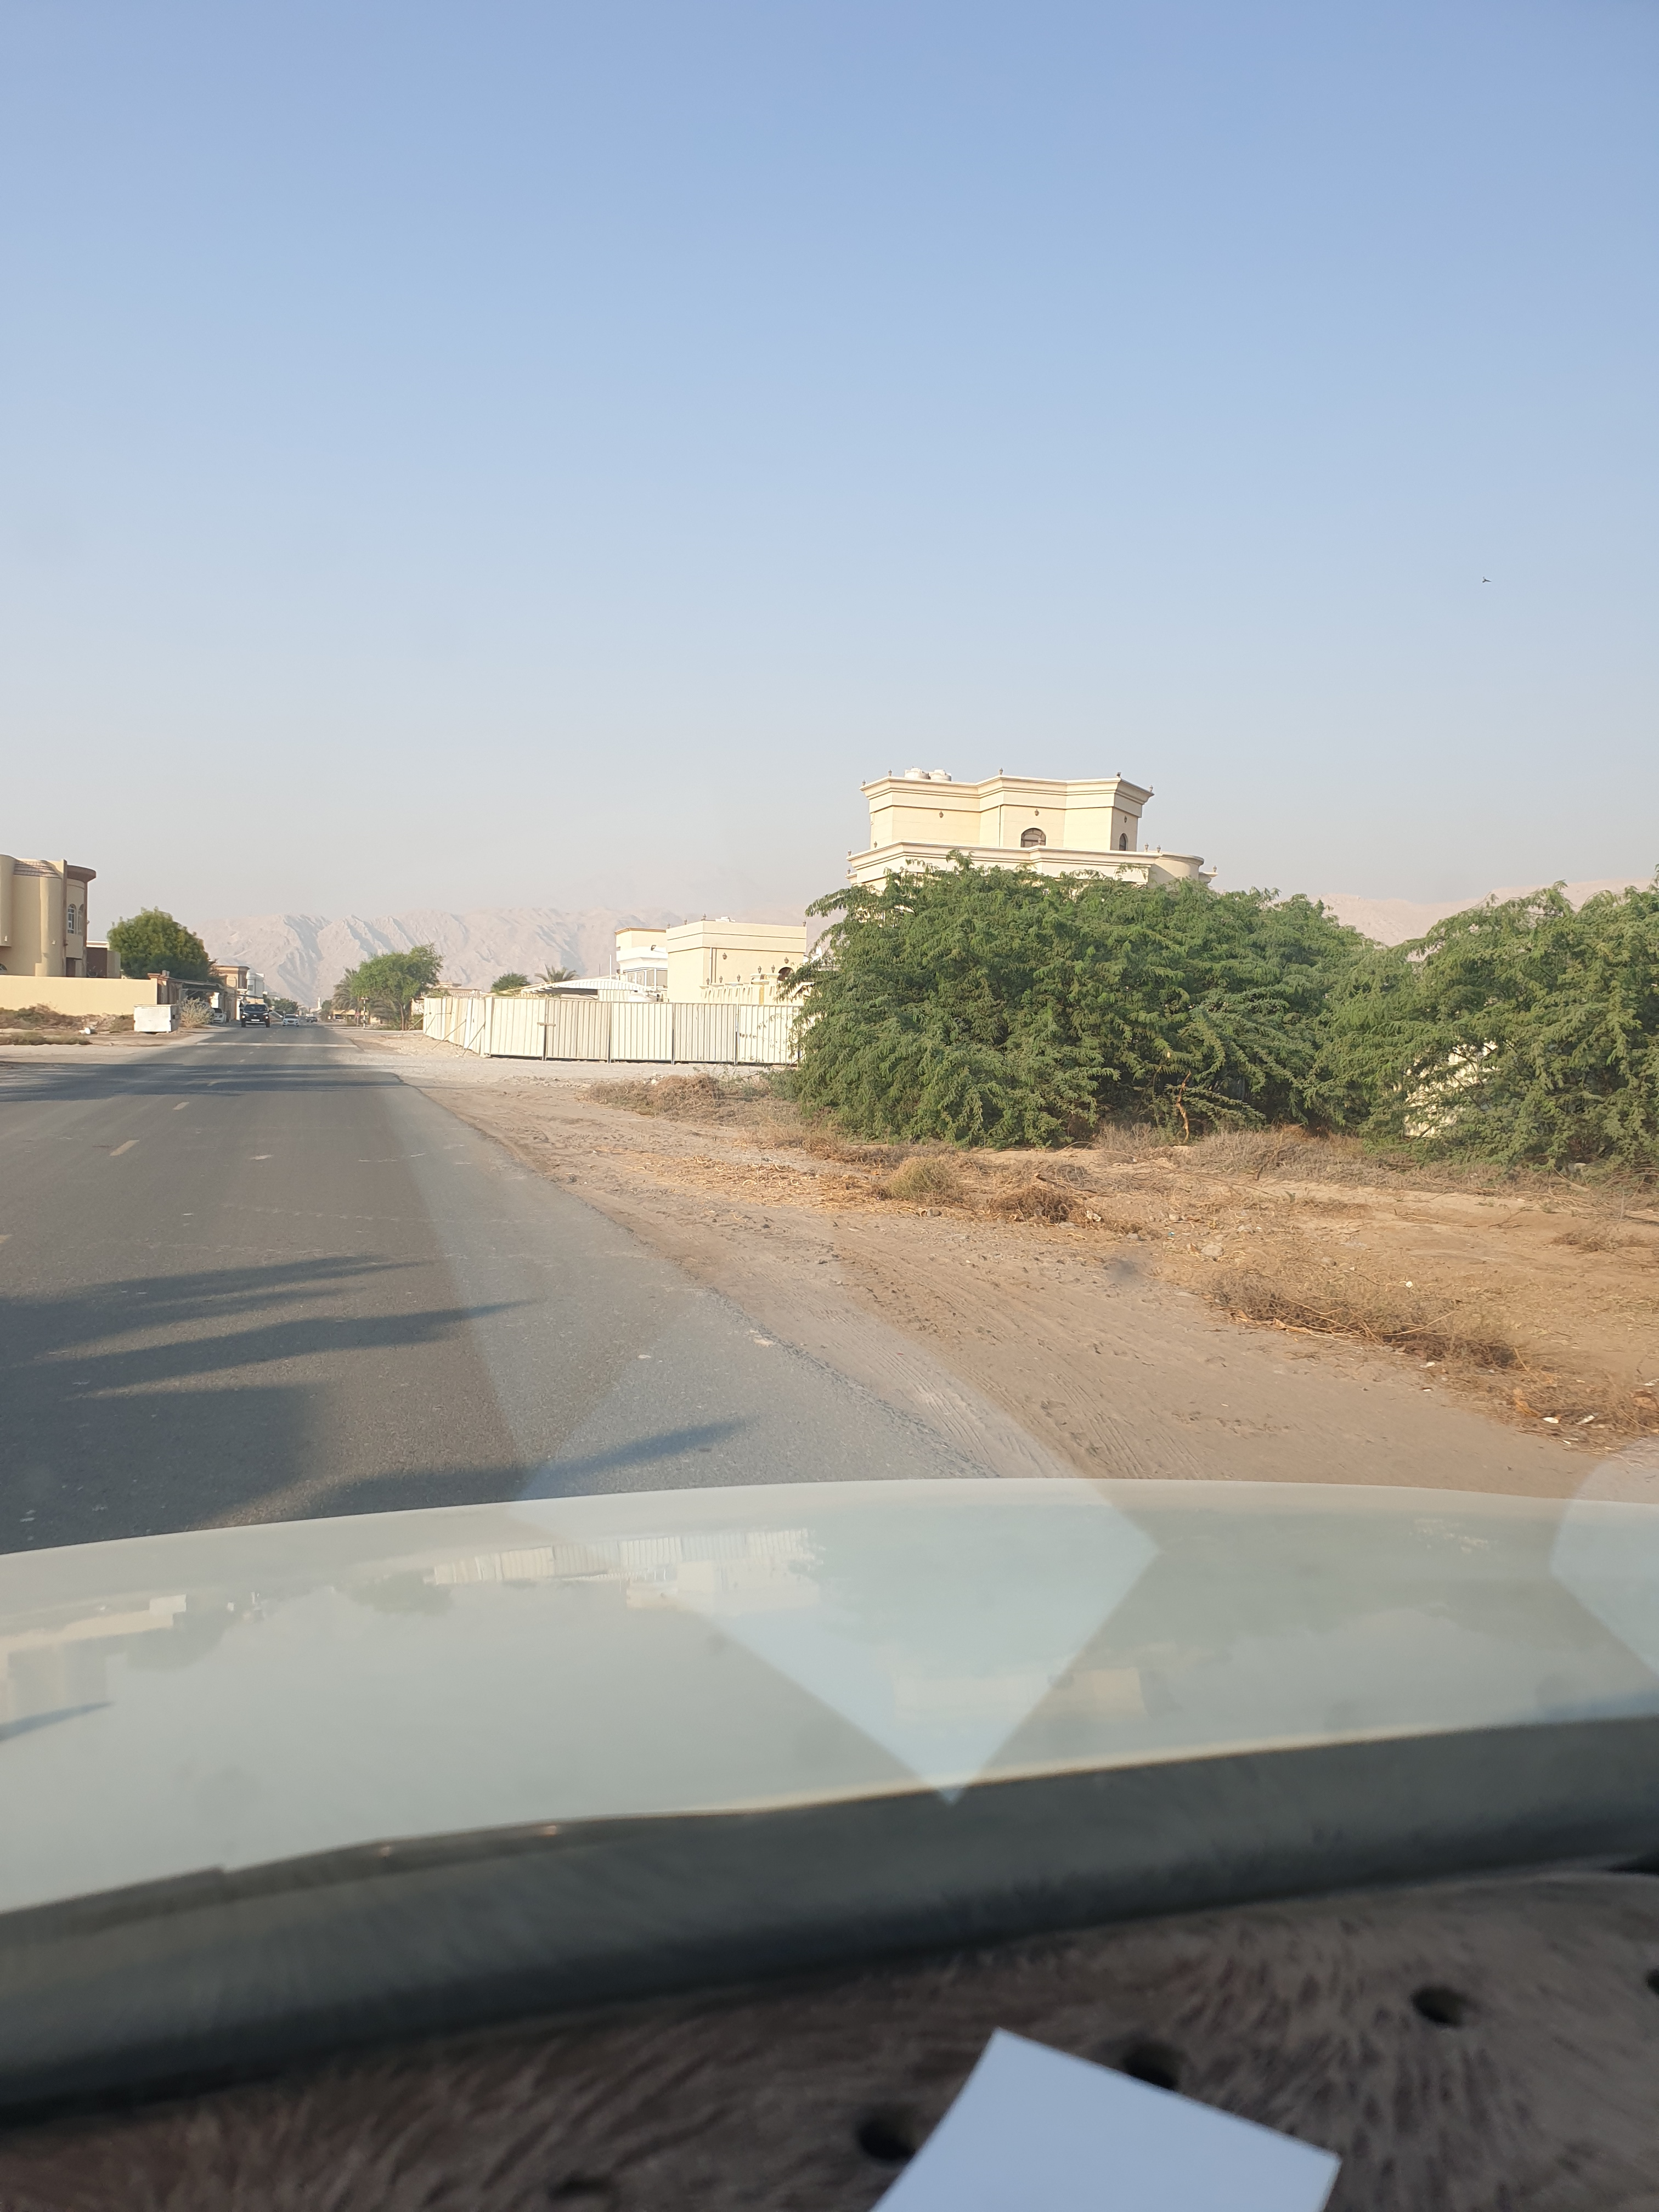fallen_trees: (1066, 1132, 1305, 1209), (1182, 1264, 1370, 1350), (1305, 1315, 1474, 1399), (983, 1195, 1157, 1251)
